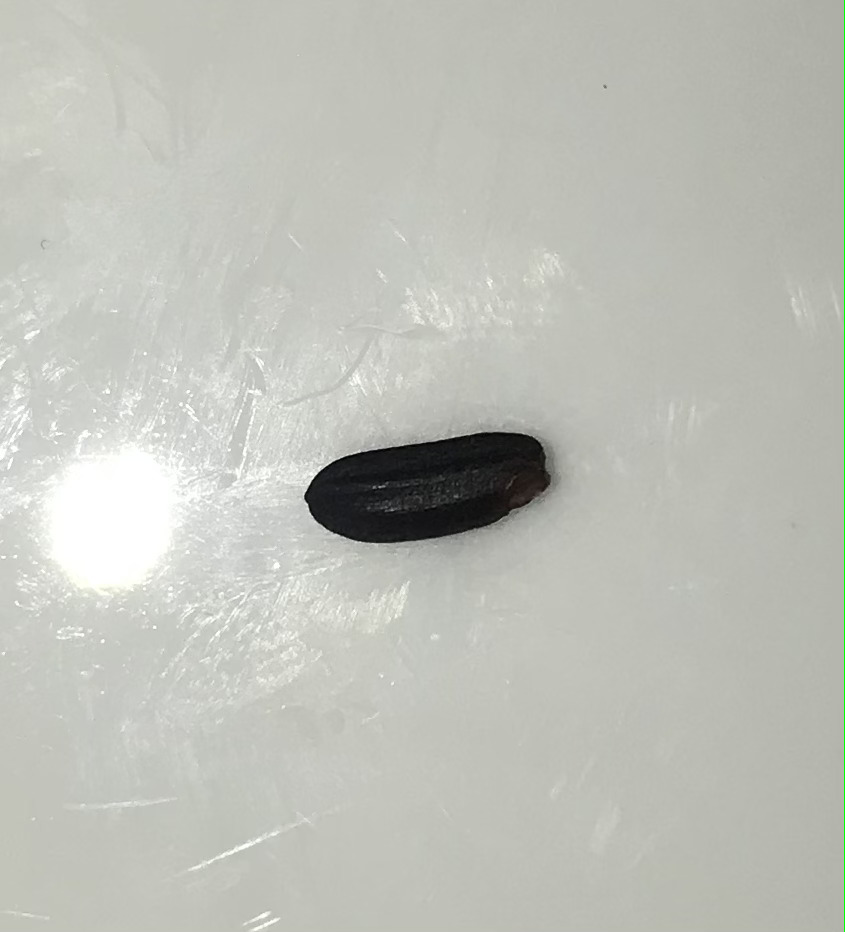Gao lut: (307, 431, 553, 539)
